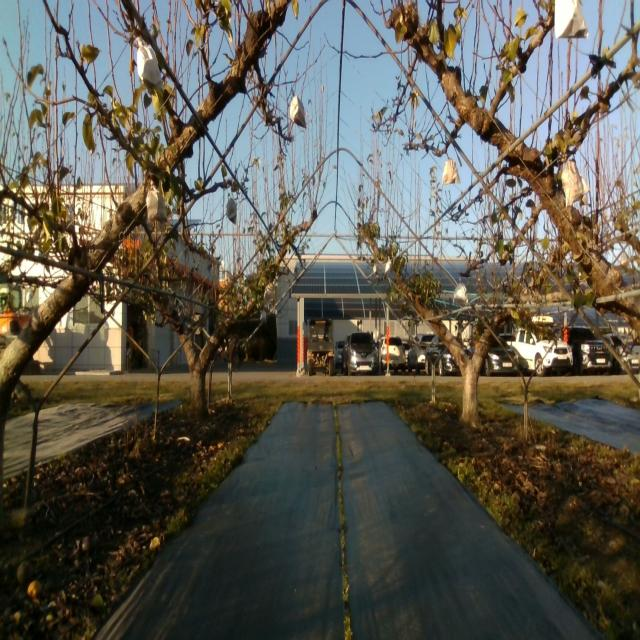pearbags: (136, 38, 166, 92), (561, 160, 591, 206), (554, 0, 588, 38), (146, 182, 168, 222), (289, 89, 306, 130), (442, 154, 461, 183), (453, 278, 468, 304), (226, 193, 237, 224)
